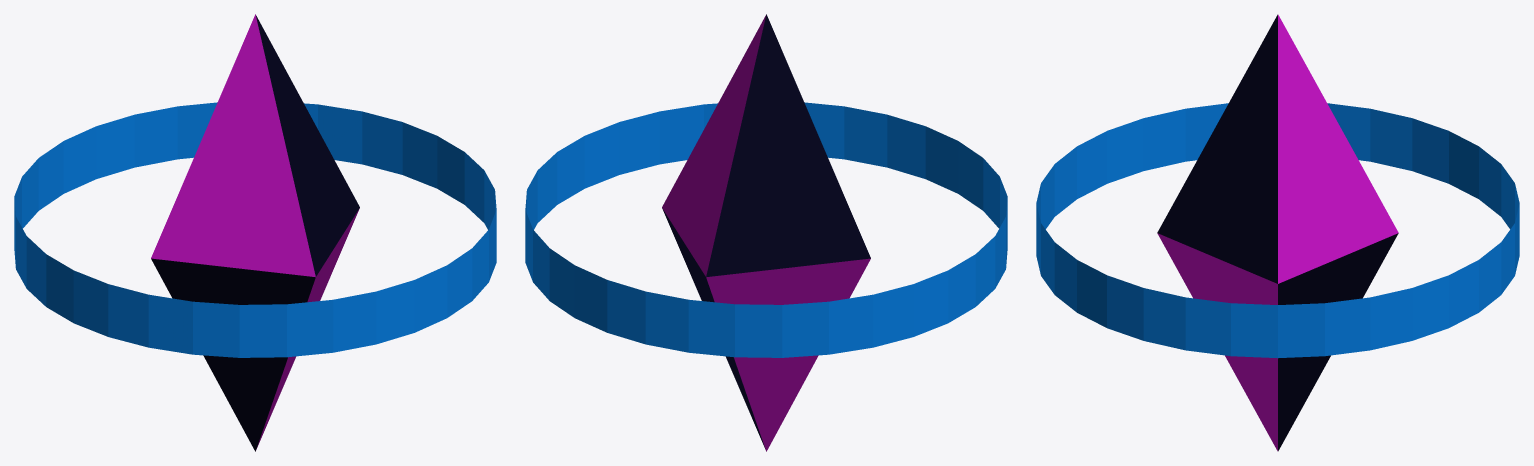
The picture shows the model from 3 angles, left to right: view 1: azimuth 30°, elevation 25°; view 2: azimuth 150°, elevation 25°; view 3: azimuth 270°, elevation 25°; orthographic projection.
Parts seen in each view (by area): view 1: transl_z2, Head_0; view 2: transl_z2, Head_0; view 3: Head_0, transl_z2.
Part boxes in pixels (x1,y1,x2,y2): transl_z2: (14, 102, 496, 357); Head_0: (151, 14, 359, 451); transl_z2: (525, 102, 1007, 357); Head_0: (662, 14, 870, 451); Head_0: (1157, 14, 1398, 451); transl_z2: (1036, 103, 1519, 358).
Size of the model in its own units: 2 by 2 by 2.
Materials: 2 (2 with a texture image).
